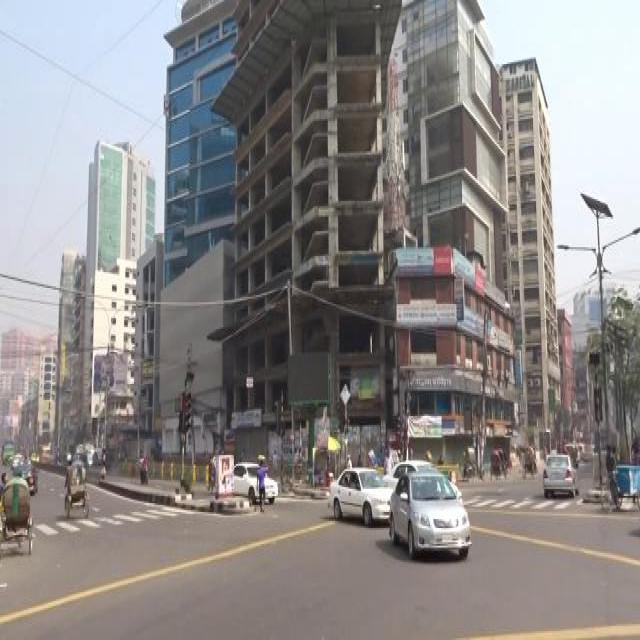bus: (0, 439, 14, 461)
car: (388, 469, 472, 555), (382, 458, 462, 502), (328, 467, 390, 521), (232, 460, 278, 500), (542, 452, 580, 494), (10, 462, 38, 492)
motorbike: (138, 462, 148, 484)
rickshaw: (0, 474, 33, 554), (63, 460, 89, 518), (464, 444, 486, 484), (521, 443, 537, 478), (489, 449, 501, 479), (366, 448, 379, 469), (425, 447, 433, 460)
wheelbarrow: (600, 462, 634, 512)
